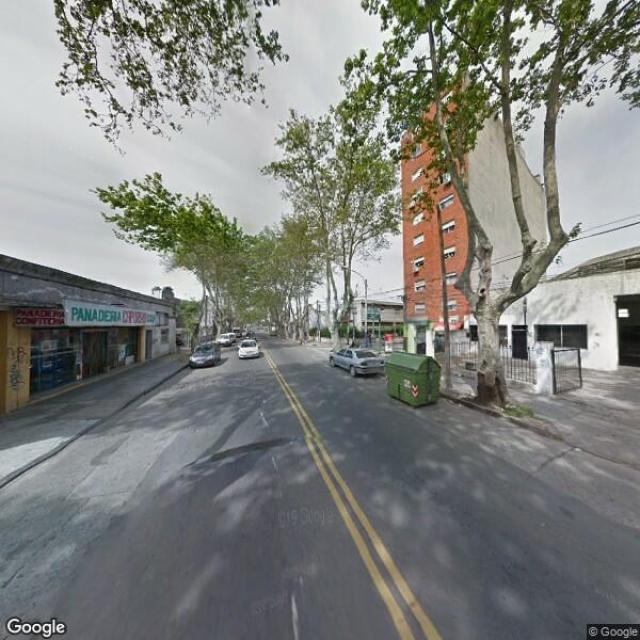garbage container: (380, 344, 448, 415)
